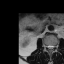CCS_stenosis: (49, 43, 51, 51)
LFS_normal: (54, 43, 56, 49)
LLS_normal: (51, 43, 54, 50)
RFS_normal: (45, 42, 47, 49)
RLS_normal: (47, 43, 49, 50)
